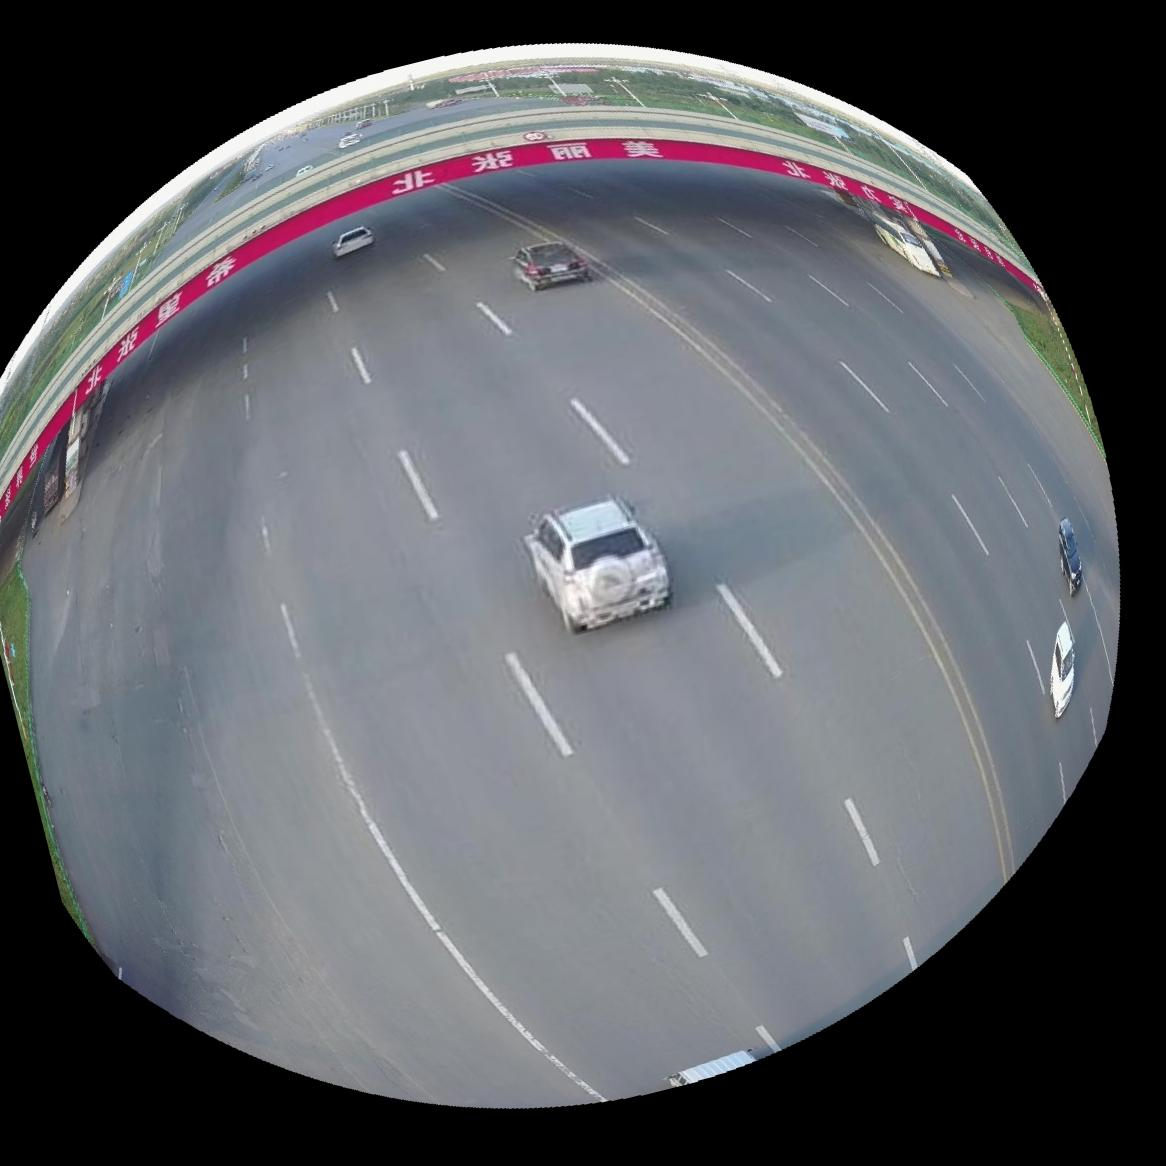cars: (524, 495, 671, 633), (872, 212, 943, 275), (513, 239, 592, 290), (667, 1051, 756, 1089), (1051, 621, 1076, 718), (1059, 518, 1086, 594)
trees: (0, 519, 84, 934), (987, 276, 1104, 453)
